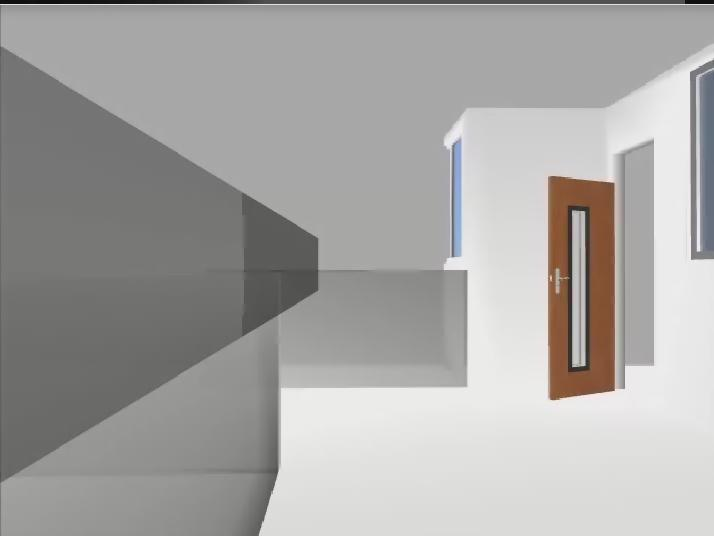door: (548, 177, 615, 401)
